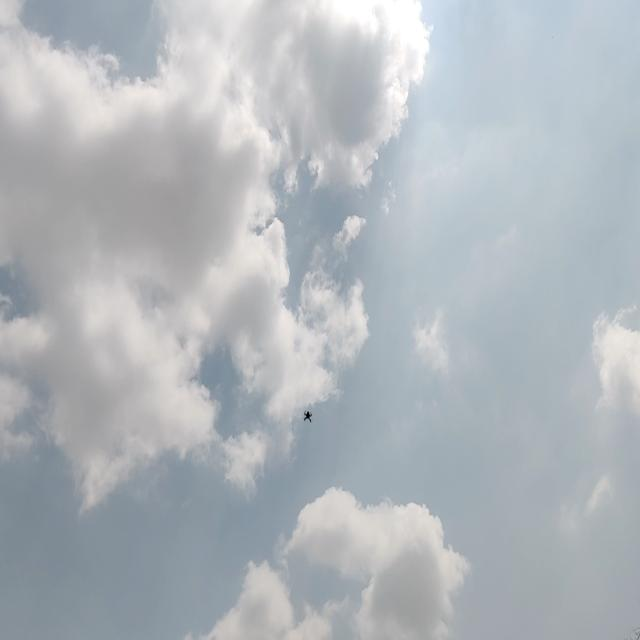drone: (302, 402, 316, 429)
